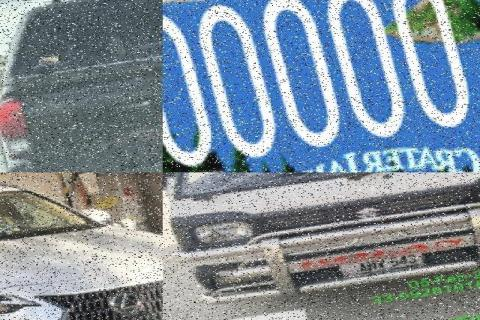LicensePlate: (163, 0, 480, 172), (332, 252, 430, 284)
